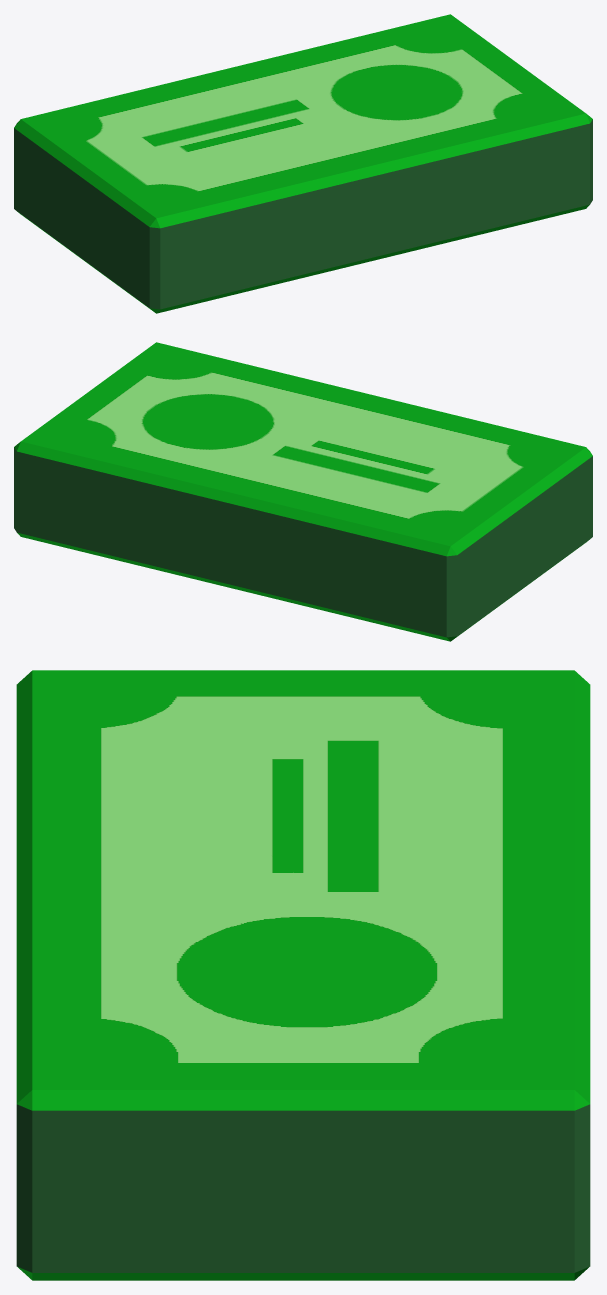
The model's file is MoneyModel.fbx.
The picture shows the model from 3 angles, top to bottom: view 1: azimuth 30°, elevation 25°; view 2: azimuth 150°, elevation 25°; view 3: azimuth 270°, elevation 25°; orthographic projection. The views are drawn at different scales.
Visible parts, largest first — view 1: pCube1; view 2: pCube1; view 3: pCube1.
Part boxes in pixels (<box>): pCube1: <box>14,14,592,313</box>; pCube1: <box>14,342,592,641</box>; pCube1: <box>16,670,590,1280</box>.
Bounding box in the file's own units: 7.2 × 1.48 × 4.04.
Materials: 1 (1 with a texture image).
